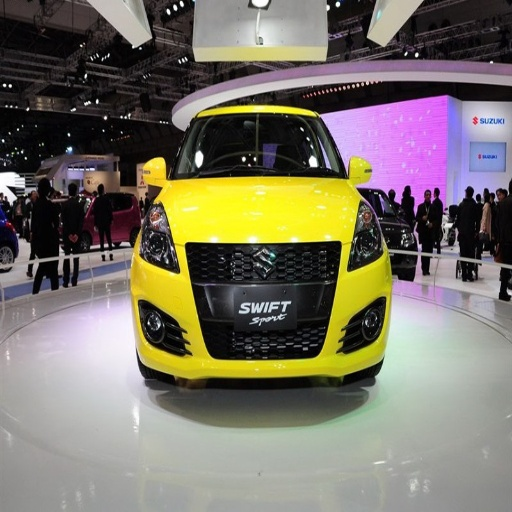front_bumper: (133, 238, 384, 378)
front_right_light: (136, 200, 181, 273)
hood: (163, 179, 360, 241)
